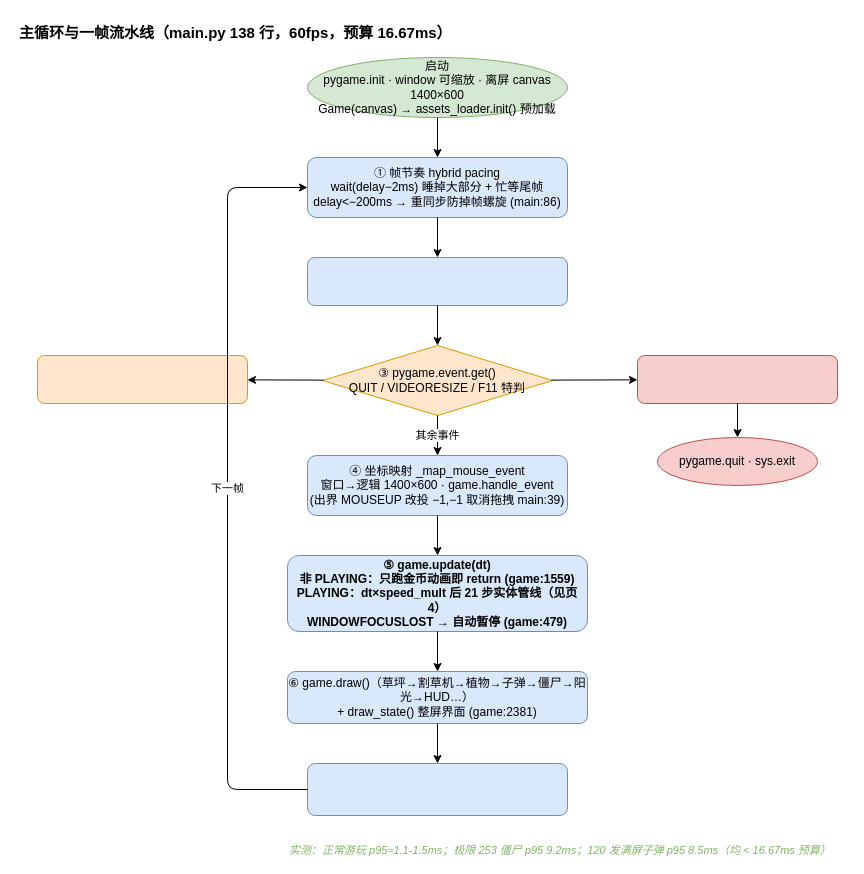
The diagram is 864 pixels wide and 874 high, and some of its shapes have lost their labels. The shapes that lost their labels are listed below. From the top down, each one's centre as x and y in pixels, then its label:
At [437,281]: "② dt = min(实际间隔, 50ms) 停顿后不瞬移 (main:89)".
At [142,379]: "resize/F11: 重建窗口+view min 640×360 (main:101)".
At [737,379]: "QUIT: _record_survival_run → 退出 (main:96)".
At [437,789]: "⑦ window 填黑 → canvas(+shake 偏移) 必要时 smoothscale → flip (main:122-130)".
